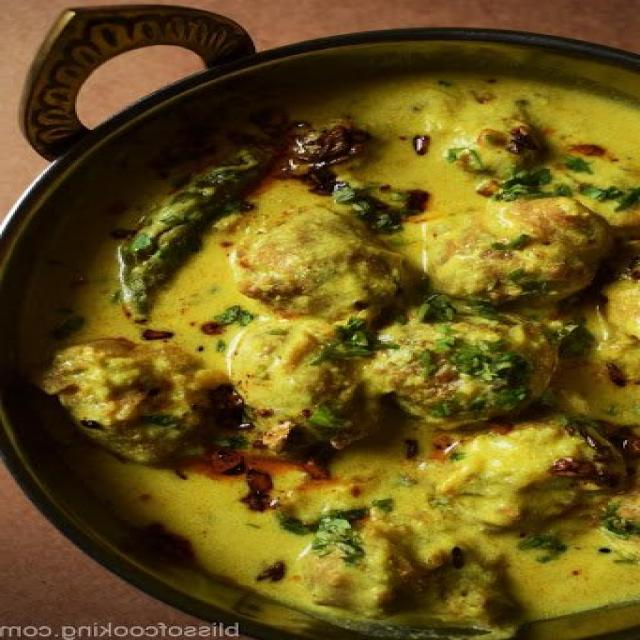Kadhi Pakora: (38, 70, 640, 639)
